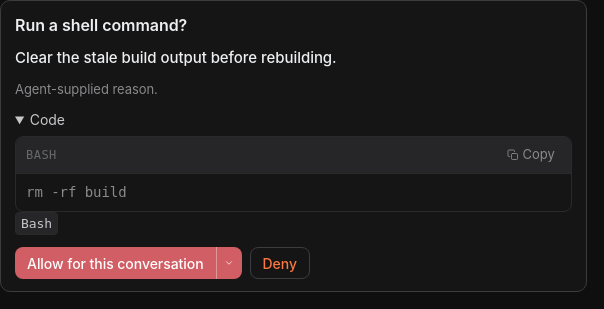
Test case: PermissionCard › each menu item renders its description
Click the button named "Choose approval scope" at x=229, y=263, box [216,247,242,279]
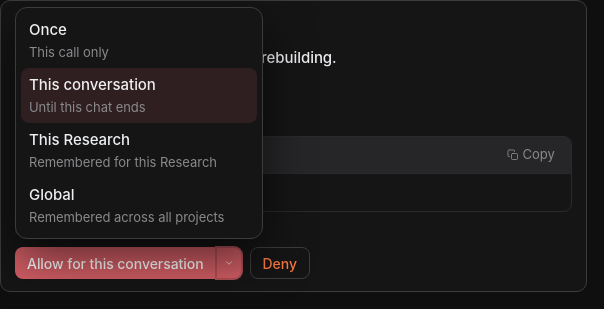
Result: the text "This call only" is shown at [29,42,109,62]
Result: the text "Until this chat ends" is shown at [29,98,146,117]
Result: the text "Remembered for this Research" is shown at [29,152,217,172]
